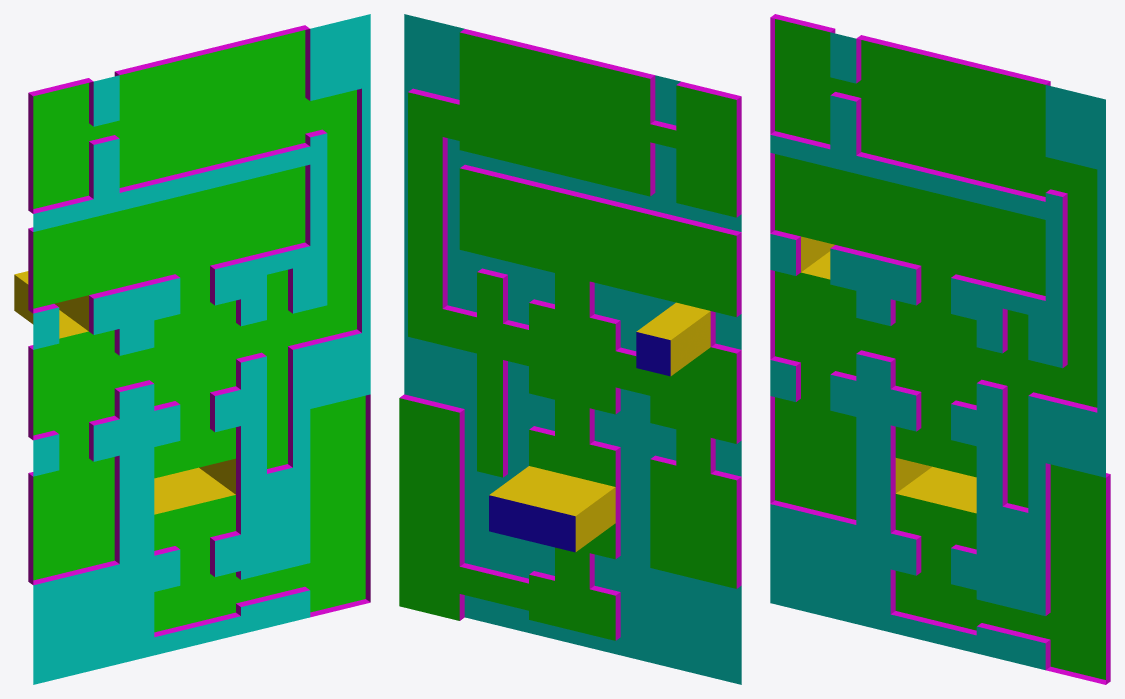
File: world.fbx
3 views of the same model, side by side, from view 1: azimuth 30°, elevation 25°; view 2: azimuth 150°, elevation 25°; view 3: azimuth 330°, elevation 25° (orthographic).
Visible parts, largest first — view 1: Floor, Walls; view 2: Floor, Walls; view 3: Floor, Walls.
Part boxes in pixels (bbox=[...]): Floor: bbox=[14, 30, 365, 632]; Walls: bbox=[28, 14, 370, 684]; Floor: bbox=[399, 32, 736, 640]; Walls: bbox=[400, 14, 741, 684]; Floor: bbox=[775, 19, 1105, 679]; Walls: bbox=[770, 14, 1110, 684].
Bounding box in the file's own units: 6500 × 3900 × 900.
